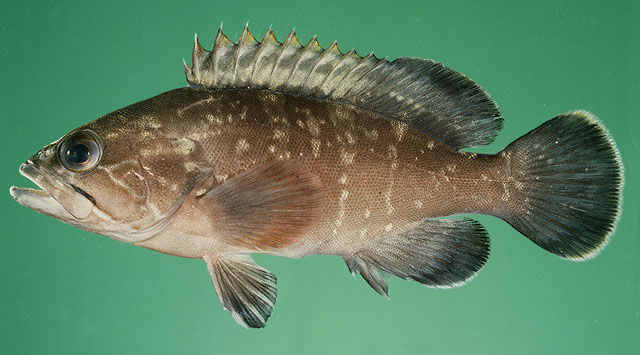fish: (9, 16, 624, 329)
